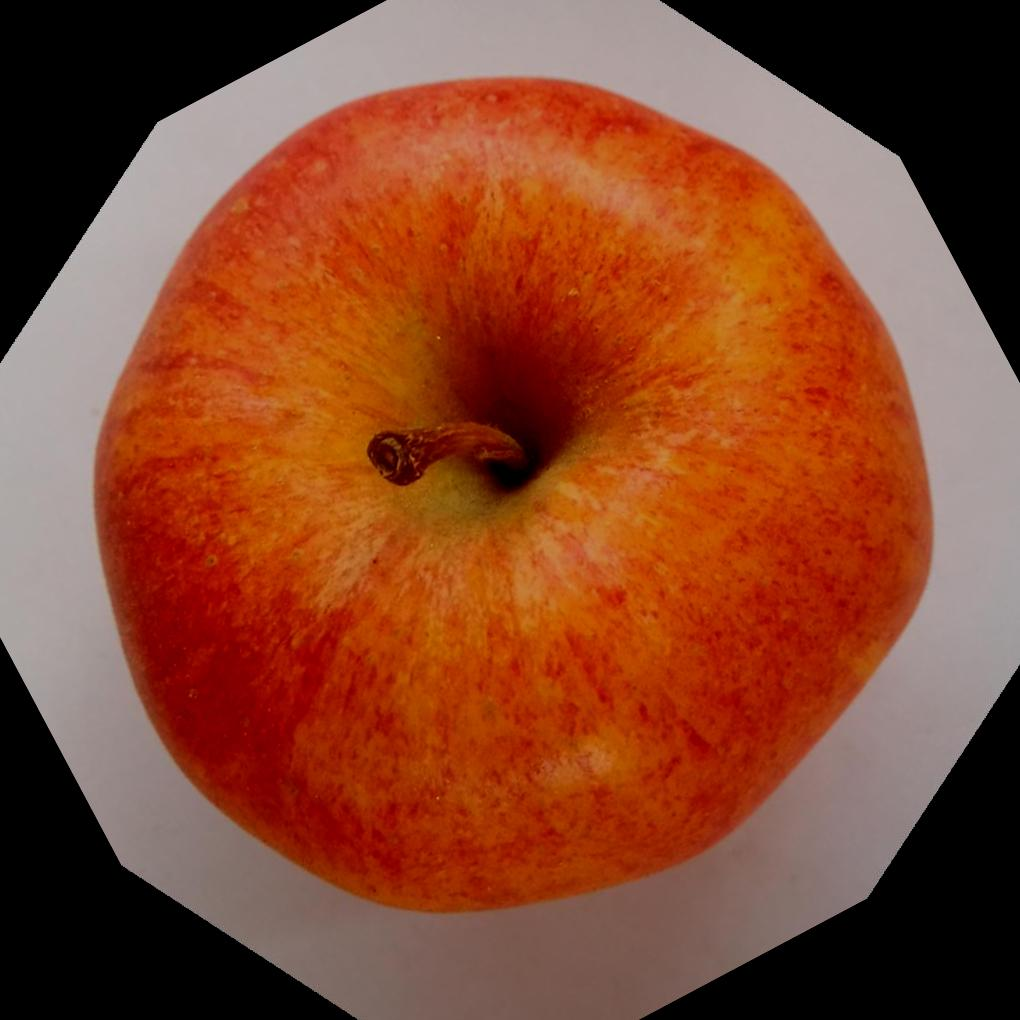FreshGuava: (93, 71, 940, 915)
